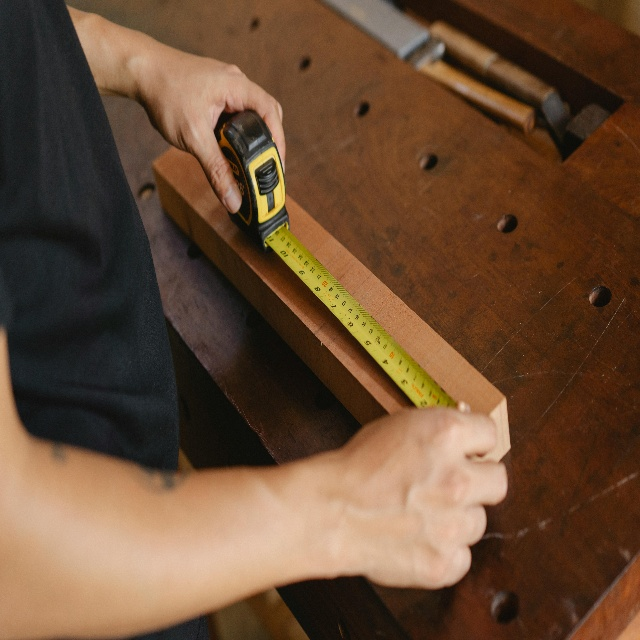Sin_guantes: (337, 405, 508, 591), (138, 36, 286, 214)
